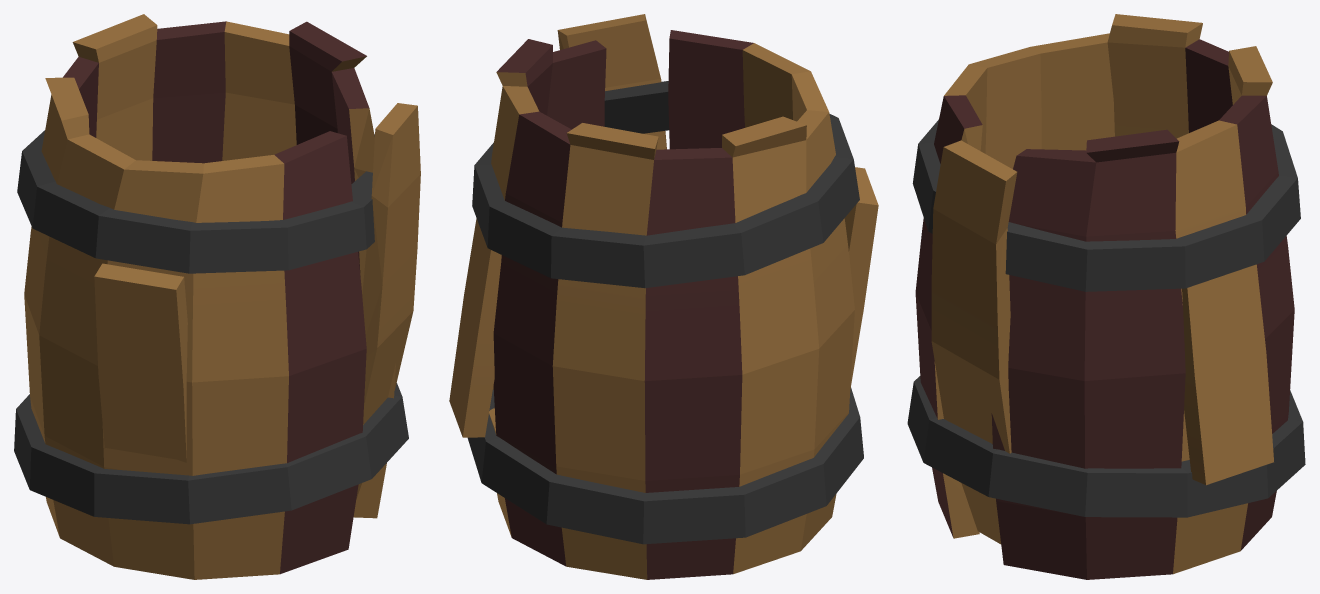
File: ea_prop_container_barrel_01b_pre__2__lev1.glb
3 renders of one model, left to right at view 1: azimuth 30°, elevation 25°; view 2: azimuth 150°, elevation 25°; view 3: azimuth 270°, elevation 25°, orthographic.
Parts seen in each view (by area): view 1: ea_prop_container_barrel_01b_pre__2__lev1; view 2: ea_prop_container_barrel_01b_pre__2__lev1; view 3: ea_prop_container_barrel_01b_pre__2__lev1.
Part boxes in pixels (x1,y1,x2,y2): ea_prop_container_barrel_01b_pre__2__lev1: (14,14,420,579); ea_prop_container_barrel_01b_pre__2__lev1: (449,14,878,579); ea_prop_container_barrel_01b_pre__2__lev1: (907,14,1305,579).
Bounding box in the file's own units: 0.869 × 1.05 × 0.8688.
Materials: 1 (1 with a texture image).
